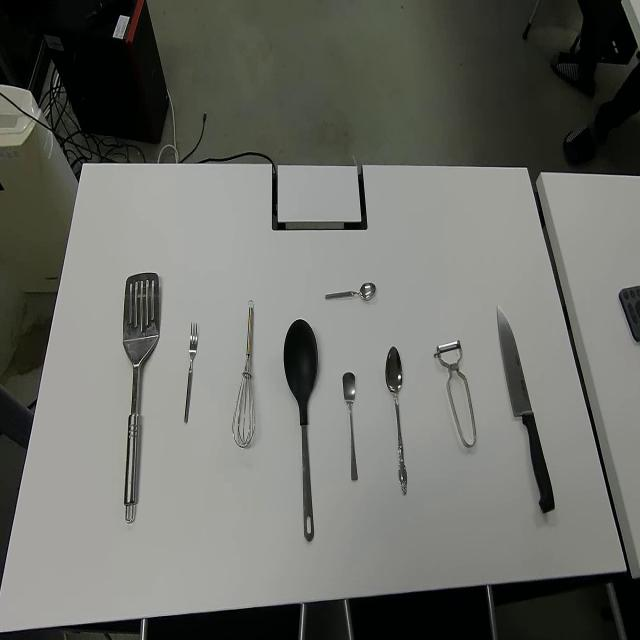Desert-Spoon: (384, 344, 408, 494)
Dinner-Fork: (184, 319, 198, 425)
Kitchen-Knife: (496, 303, 556, 513)
Peeler: (433, 340, 478, 448)
Serving-Spoon: (122, 270, 161, 522), (282, 317, 318, 542)
Tea-Spoon: (341, 370, 359, 482), (324, 276, 376, 303)
Whisk: (232, 300, 256, 448)
